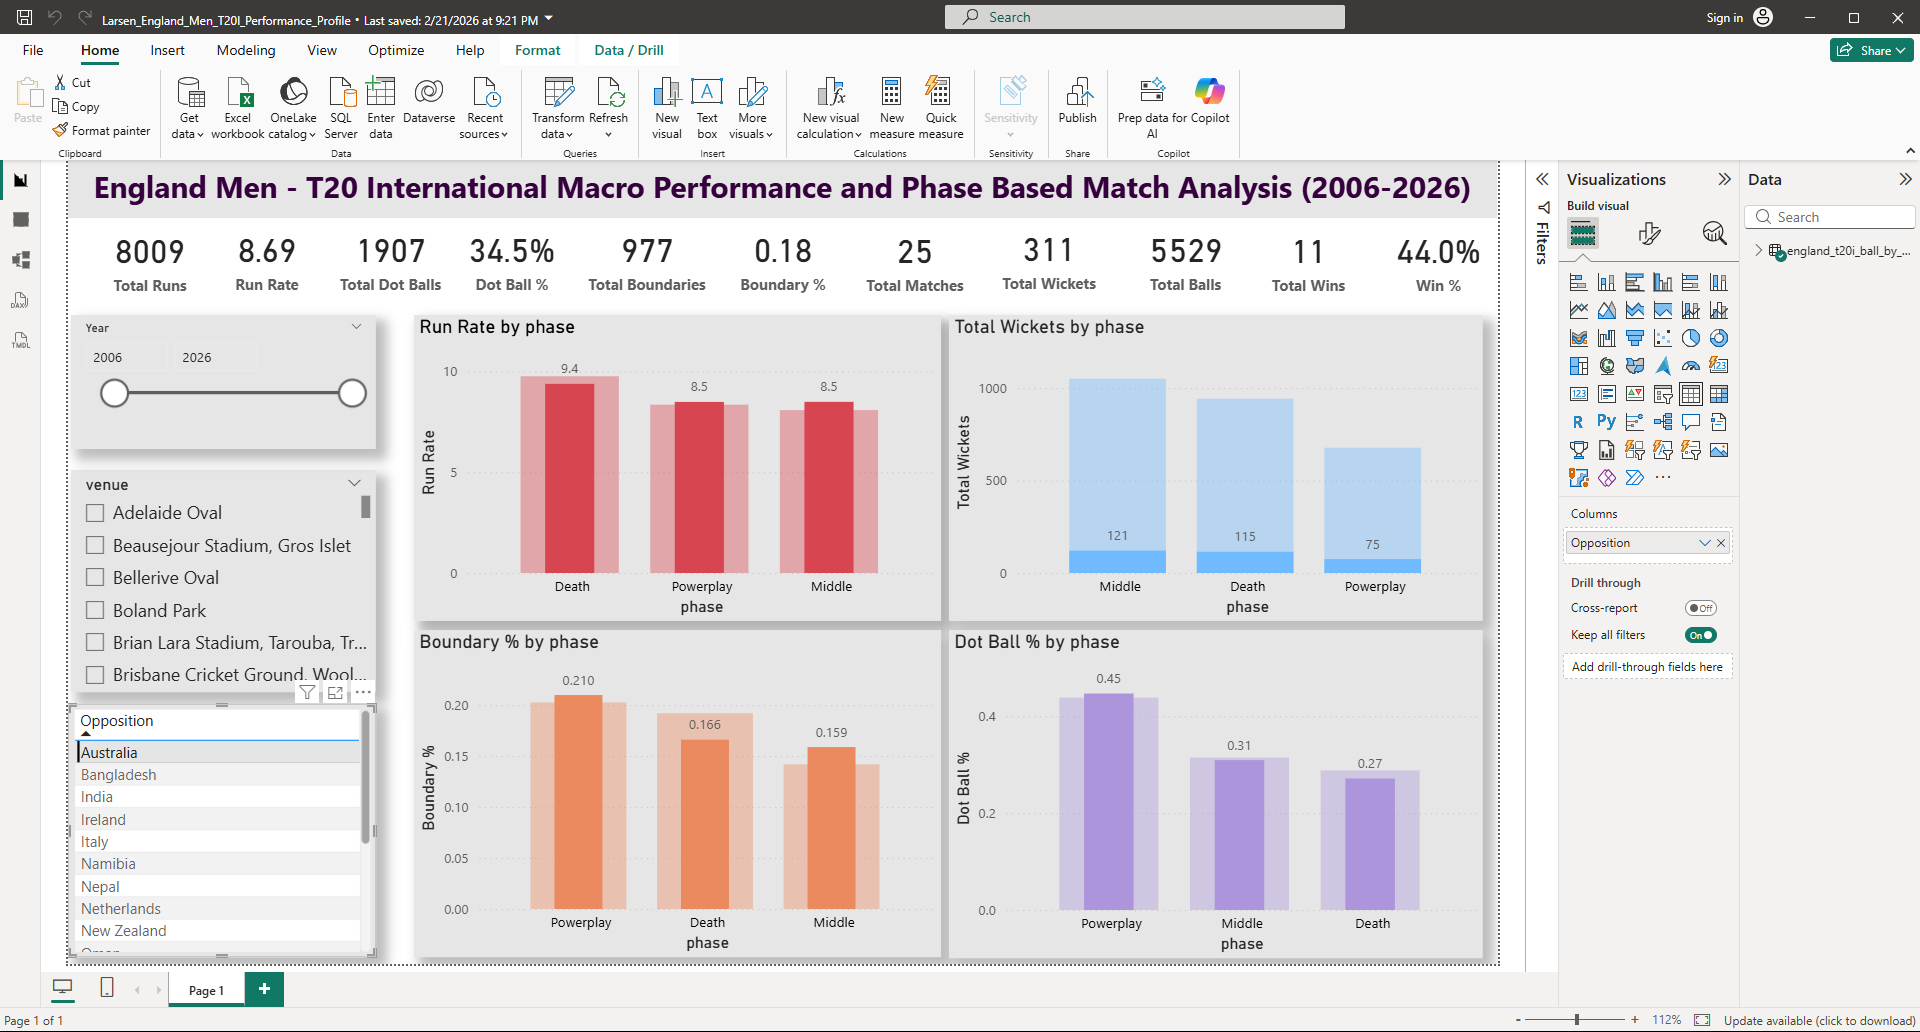

This screenshot's page, from the dashboard's own definition file:
{"tool":"powerbi","page":{"name":"Page 1","canvas":[1280,720],"ordinal":0},"visuals":[{"type":"card","fields":{"Values":["england_t20i_ball_by_ball_clean.Total Balls"]},"box":[943.9,51.9,113.7,71.6],"z":0},{"type":"card","fields":{"Values":["england_t20i_ball_by_ball_clean.Total Boundaries"]},"box":[459.4,51.9,118.2,71.6],"z":1000},{"type":"card","fields":{"Values":["england_t20i_ball_by_ball_clean.Total Dot Balls"]},"box":[231.9,51.9,113.7,71.6],"z":2000},{"type":"card","fields":{"Values":["england_t20i_ball_by_ball_clean.Total Runs"]},"box":[22.4,51.9,102.1,73.4],"z":3000},{"type":"card","fields":{"Values":["england_t20i_ball_by_ball_clean.Total Wickets"]},"box":[823.9,51.9,109.3,69.9],"z":4000},{"type":"card","fields":{"Values":["england_t20i_ball_by_ball_clean.Dot Ball %"]},"box":[345.7,51.9,103.9,71.6],"z":5000},{"type":"card","fields":{"Values":["england_t20i_ball_by_ball_clean.Boundary %"]},"box":[585.7,51.9,109.3,71.6],"z":6000},{"type":"slicer","fields":{"Values":["england_t20i_ball_by_ball_clean.venue"]},"box":[2.7,277.6,273.1,198.8],"z":7000},{"type":"clusteredColumnChart","fields":{"Category":["england_t20i_ball_by_ball_clean.phase"],"Y":["england_t20i_ball_by_ball_clean.Run Rate"]},"box":[309.9,138.8,471.9,274],"z":8000},{"type":"card","fields":{"Values":["england_t20i_ball_by_ball_clean.Run Rate"]},"box":[124.5,51.9,107.5,71.6],"z":9000},{"type":"clusteredColumnChart","fields":{"Category":["england_t20i_ball_by_ball_clean.phase"],"Y":["england_t20i_ball_by_ball_clean.Boundary %"]},"box":[309.9,420.9,471.9,292.8],"z":10000},{"type":"clusteredColumnChart","fields":{"Category":["england_t20i_ball_by_ball_clean.phase"],"Y":["england_t20i_ball_by_ball_clean.Total Wickets"]},"box":[789,138.8,478.2,274],"z":11000},{"type":"clusteredColumnChart","fields":{"Category":["england_t20i_ball_by_ball_clean.phase"],"Y":["england_t20i_ball_by_ball_clean.Dot Ball %"]},"box":[789,420.9,478.2,293.7],"z":12000},{"type":"tableEx","fields":{"Values":["england_t20i_ball_by_ball_clean.Opposition"]},"box":[0,487.2,275.8,226.6],"z":13000},{"type":"slicer","fields":{"Values":["england_t20i_ball_by_ball_clean.Year"]},"box":[2.7,138.8,273.1,120],"z":14000},{"type":"card","fields":{"Values":["england_t20i_ball_by_ball_clean.Total Matches"]},"box":[704.8,51.9,107.5,73.4],"z":15000},{"type":"card","fields":{"Values":["england_t20i_ball_by_ball_clean.Total Wins"]},"box":[1057.6,51.9,106.6,73.4],"z":16000},{"type":"card","fields":{"Values":["england_t20i_ball_by_ball_clean.Win %"]},"box":[1174.9,51.9,104.8,73.4],"z":17000},{"type":"textbox","box":[0,0,1279.7,51.9],"z":17001}]}

Visuals, with their boxes on the page's 1280x720 design canvas (x1, y1, x2, y2). These are canvas units, not pixel positions in the 1920x1032 screenshot, which may show the page scaled, cropped or inside an application window:
card - england_t20i_ball_by_ball_clean.Total Balls: [left=944, top=52, right=1058, bottom=124]
card - england_t20i_ball_by_ball_clean.Total Boundaries: [left=459, top=52, right=578, bottom=124]
card - england_t20i_ball_by_ball_clean.Total Dot Balls: [left=232, top=52, right=346, bottom=124]
card - england_t20i_ball_by_ball_clean.Total Runs: [left=22, top=52, right=124, bottom=125]
card - england_t20i_ball_by_ball_clean.Total Wickets: [left=824, top=52, right=933, bottom=122]
card - england_t20i_ball_by_ball_clean.Dot Ball %: [left=346, top=52, right=450, bottom=124]
card - england_t20i_ball_by_ball_clean.Boundary %: [left=586, top=52, right=695, bottom=124]
slicer - england_t20i_ball_by_ball_clean.venue: [left=3, top=278, right=276, bottom=476]
clusteredColumnChart - england_t20i_ball_by_ball_clean.phase x england_t20i_ball_by_ball_clean.Run Rate: [left=310, top=139, right=782, bottom=413]
card - england_t20i_ball_by_ball_clean.Run Rate: [left=124, top=52, right=232, bottom=124]
clusteredColumnChart - england_t20i_ball_by_ball_clean.phase x england_t20i_ball_by_ball_clean.Boundary %: [left=310, top=421, right=782, bottom=714]
clusteredColumnChart - england_t20i_ball_by_ball_clean.phase x england_t20i_ball_by_ball_clean.Total Wickets: [left=789, top=139, right=1267, bottom=413]
clusteredColumnChart - england_t20i_ball_by_ball_clean.phase x england_t20i_ball_by_ball_clean.Dot Ball %: [left=789, top=421, right=1267, bottom=715]
tableEx - england_t20i_ball_by_ball_clean.Opposition: [left=0, top=487, right=276, bottom=714]
slicer - england_t20i_ball_by_ball_clean.Year: [left=3, top=139, right=276, bottom=259]
card - england_t20i_ball_by_ball_clean.Total Matches: [left=705, top=52, right=812, bottom=125]
card - england_t20i_ball_by_ball_clean.Total Wins: [left=1058, top=52, right=1164, bottom=125]
card - england_t20i_ball_by_ball_clean.Win %: [left=1175, top=52, right=1280, bottom=125]
textbox: [left=0, top=0, right=1280, bottom=52]
